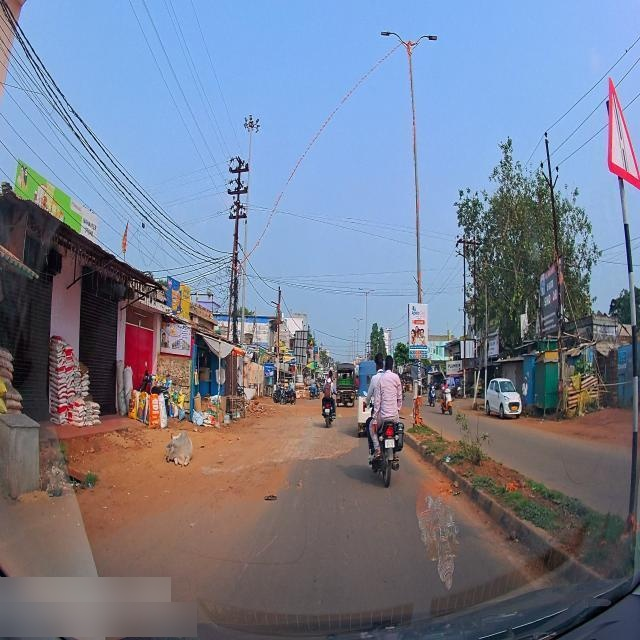pothole: (288, 422, 357, 471)
